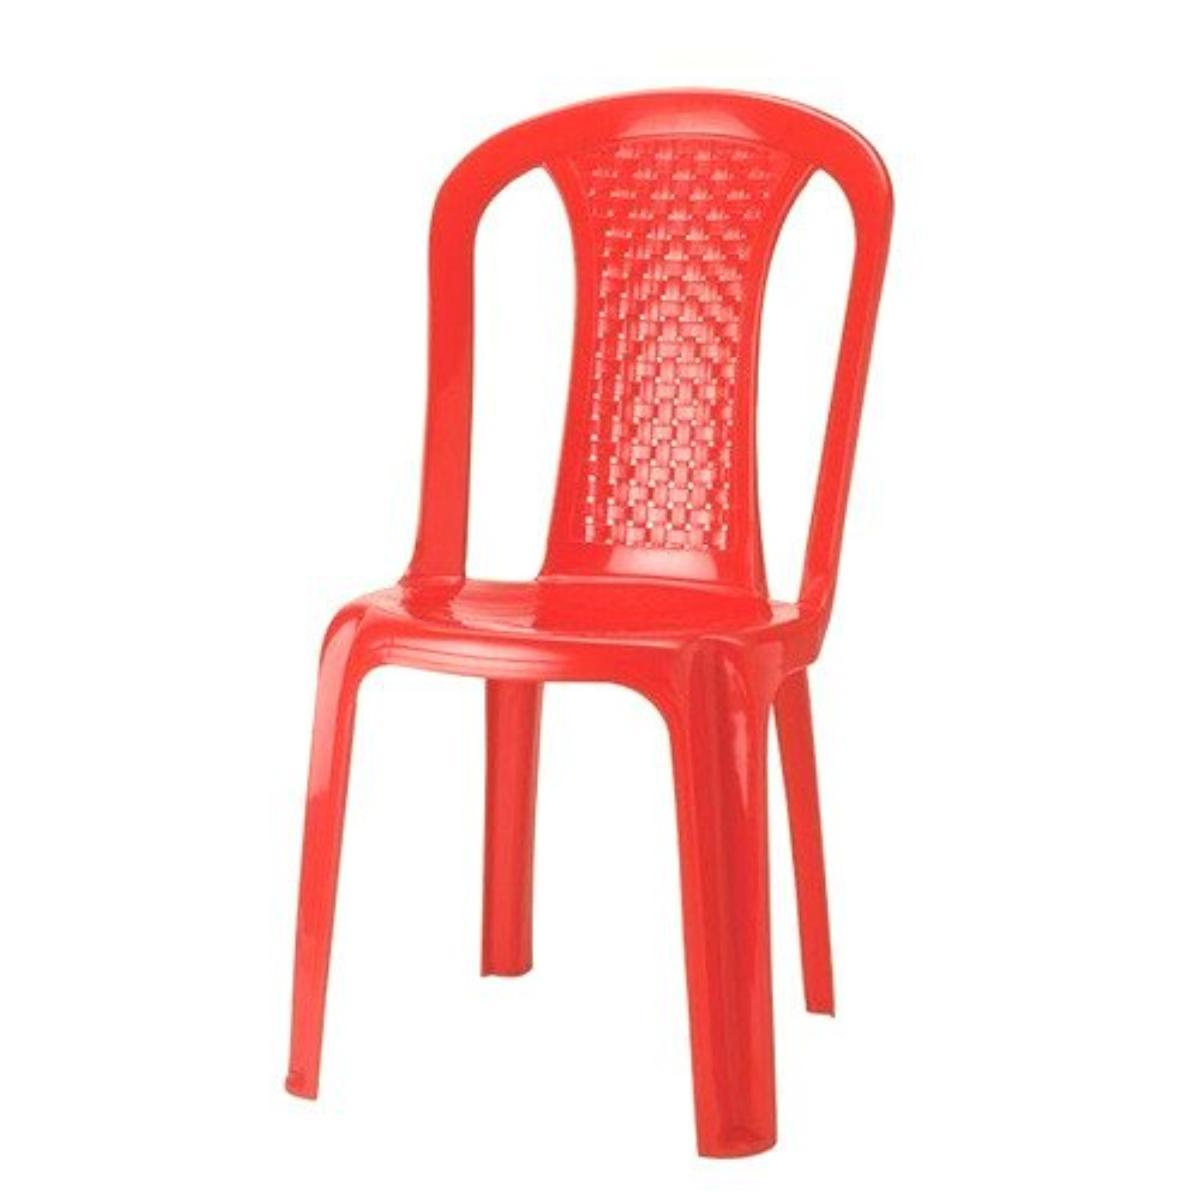Chair: (279, 85, 892, 1159)
